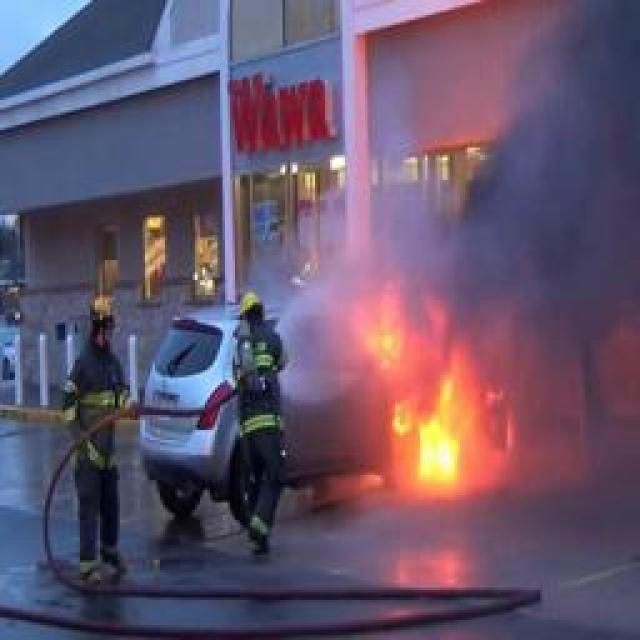Fire: (356, 290, 508, 496), (392, 375, 462, 488), (418, 414, 461, 488)
Smoke: (305, 142, 640, 500), (444, 53, 640, 293)
